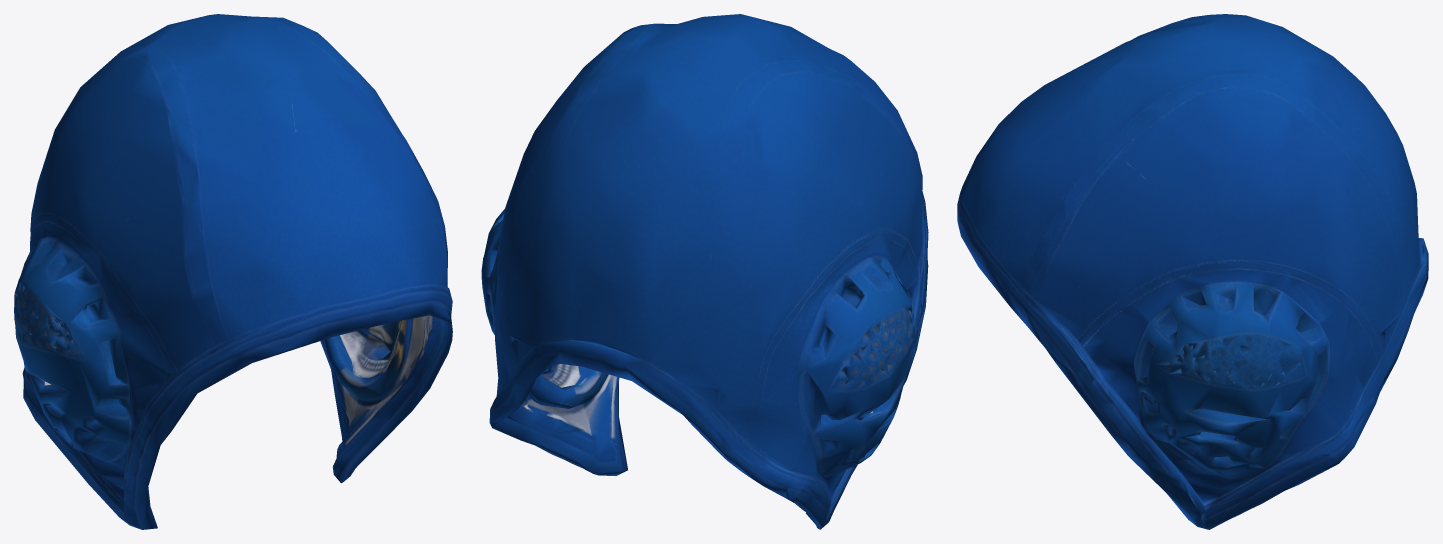
File: Meshy_AI_Blue_Water_Polo_Cap_20261124_texture.fbx
The picture shows the model from 3 angles, left to right: view 1: azimuth 30°, elevation 25°; view 2: azimuth 150°, elevation 25°; view 3: azimuth 270°, elevation 25°; orthographic projection. The views are drawn at different scales.
Visible parts, largest first — view 1: Mesh_0; view 2: Mesh_0; view 3: Mesh_0.
Boxes of the visible parts, x1,y1,x2,y2 form: Mesh_0: (14, 14, 452, 529); Mesh_0: (481, 14, 928, 529); Mesh_0: (957, 14, 1428, 529).
Size of the model in its own units: 22.23 by 25 by 23.88.
Materials: 1 (1 with a texture image).
